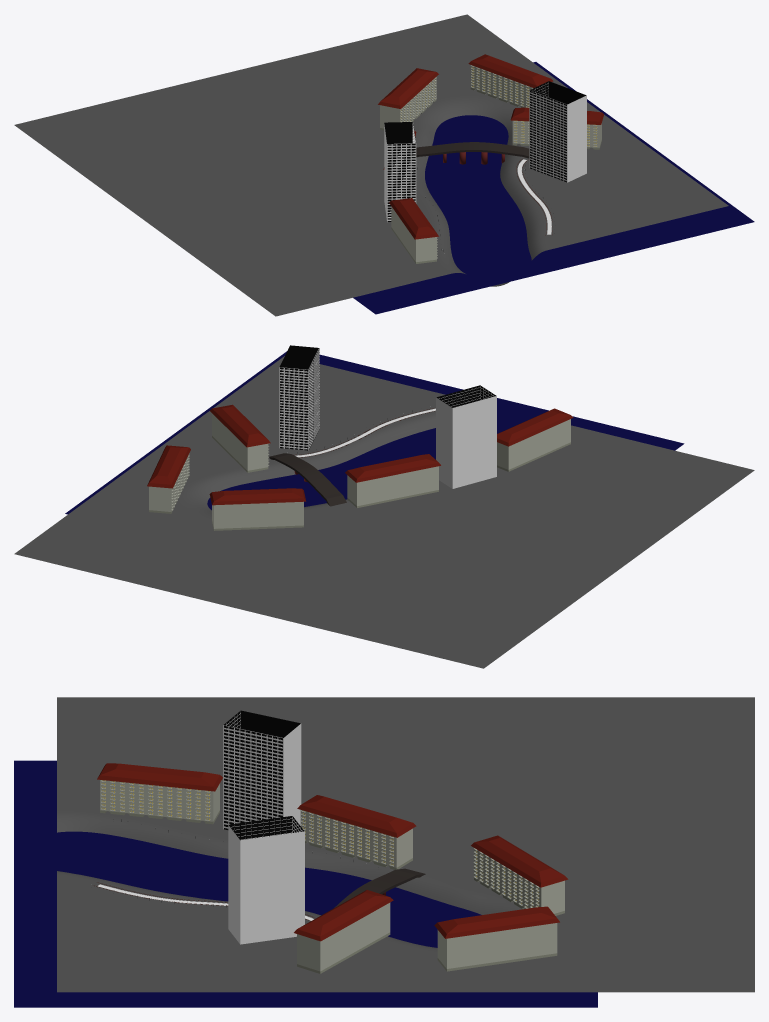
Rendered from city.glb.
3 views of the same model, one above another, from view 1: azimuth 30°, elevation 25°; view 2: azimuth 150°, elevation 25°; view 3: azimuth 270°, elevation 25° (orthographic). The views are drawn at different scales.
Parts seen in each view (by area): view 1: ground, water, officebuilding30, main (×4), roof (×3), officebuilding30.001, Plane.002; view 2: ground, main (×5), water, roof (×5), officebuilding30.001, officebuilding30, Plane.002; view 3: ground, water, main (×5), roof (×5), officebuilding30, officebuilding30.001, Plane.002.
Part boxes in pixels (x1,y1,x2,y2): ground: (14,14,728,316); water: (353,62,754,314); officebuilding30: (529,81,586,182); main (×4): (380,65,601,262); roof (×3): (378,54,553,239); officebuilding30.001: (384,122,416,221); Plane.002: (416,142,529,158); ground: (14,356,754,668); main (×5): (149,413,570,528); water: (65,351,684,514); roof (×5): (147,404,573,505); officebuilding30.001: (436,385,496,487); officebuilding30: (279,345,319,450); Plane.002: (269,453,346,506); ground: (57,697,754,992); water: (14,760,597,1007); main (×5): (100,780,564,971); roof (×5): (97,763,568,941); officebuilding30: (228,816,304,942); officebuilding30.001: (223,710,301,829); Plane.002: (334,868,425,907).
Bounding box in the file's own units: 734 × 165 × 763.
